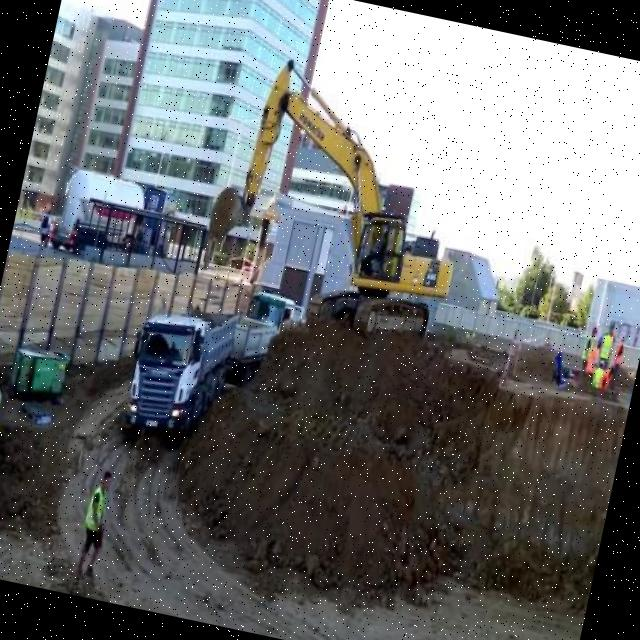Dump Truck: (115, 292, 242, 454), (224, 284, 306, 394)
Excavator: (193, 48, 490, 351)
